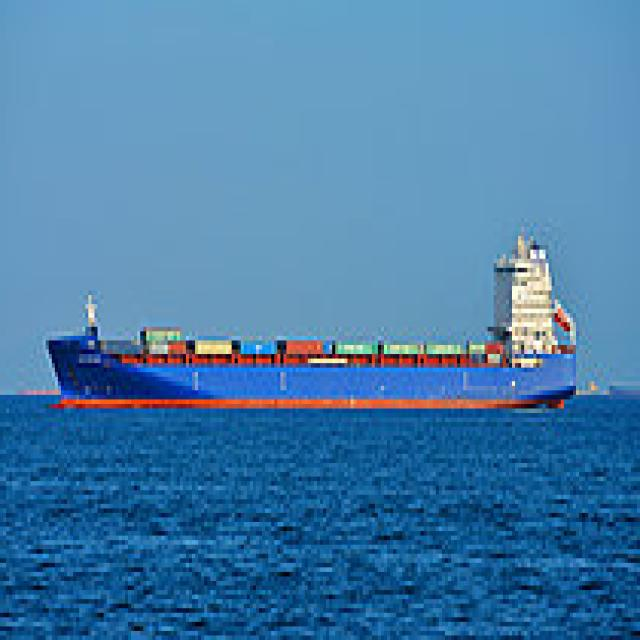Cargo: (46, 218, 582, 408)
